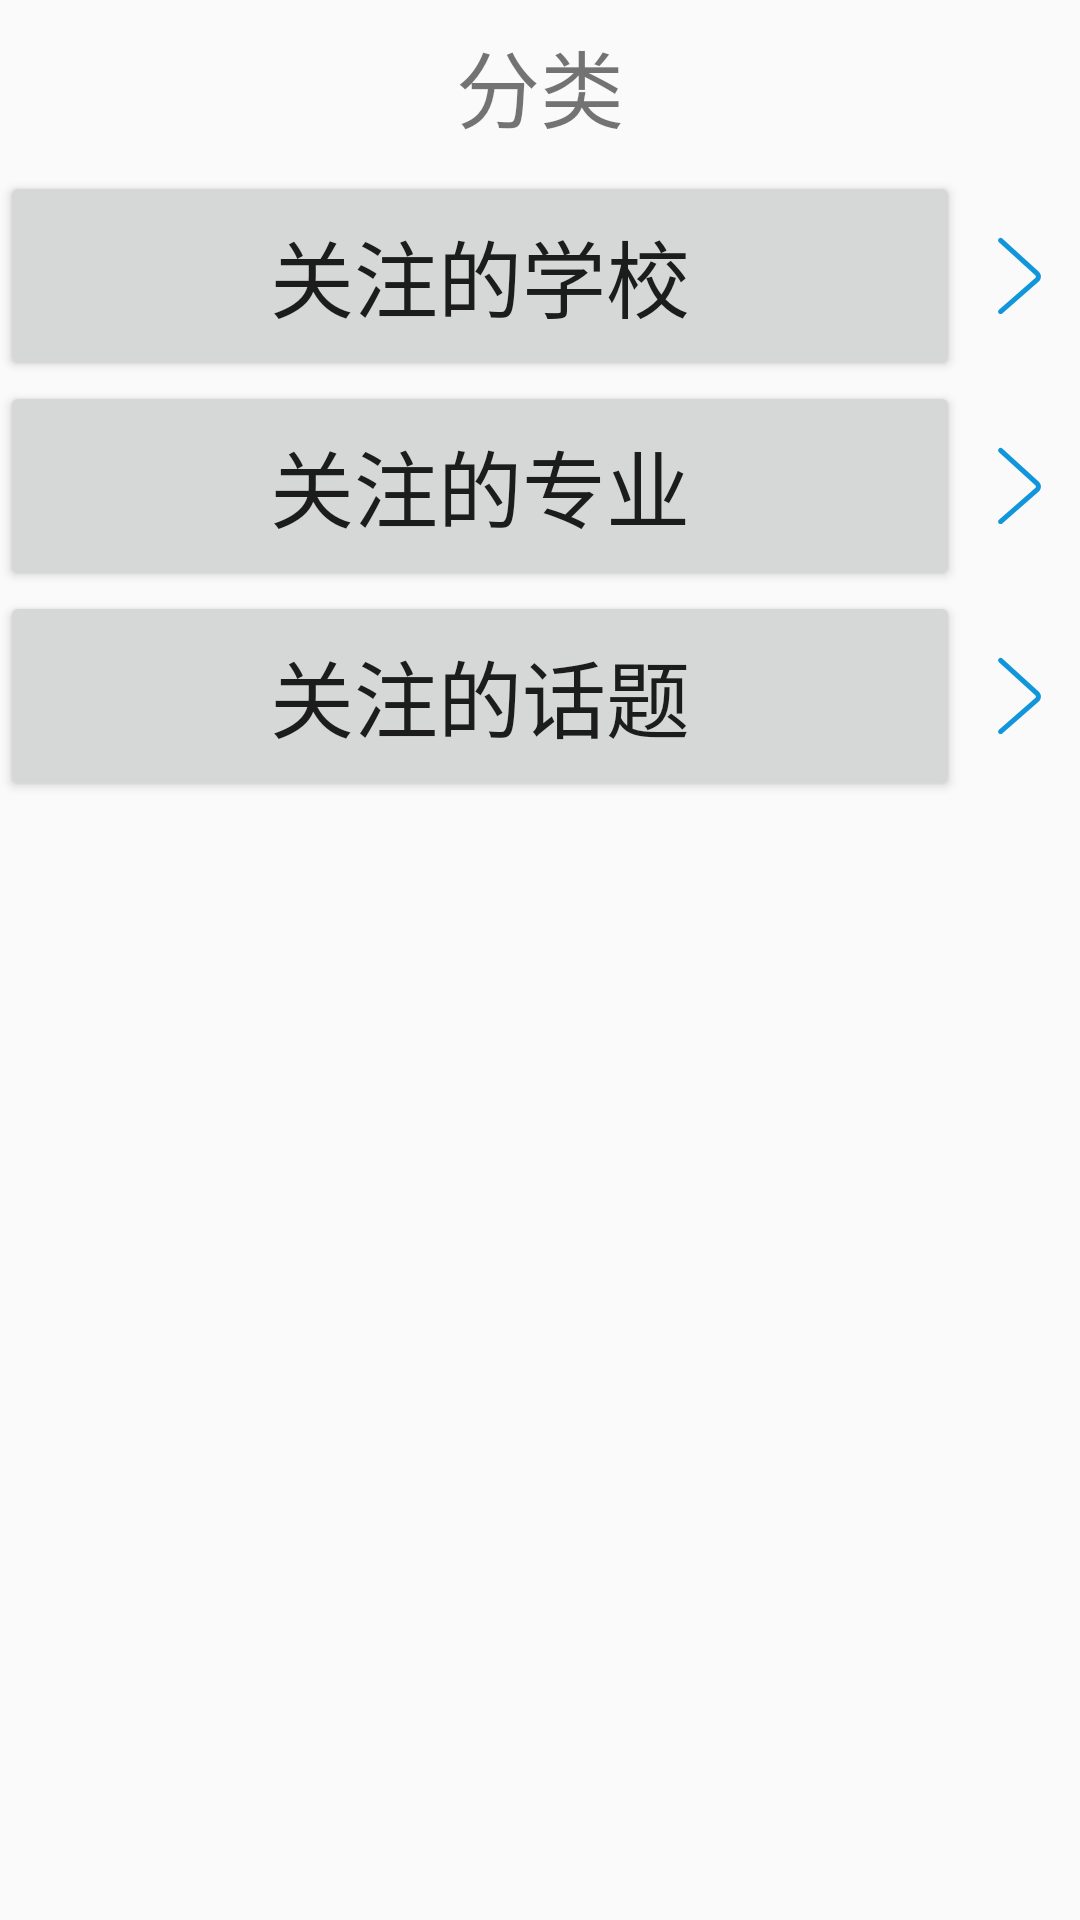

Icons on this 1080*1920 Android screen, each with the point to tap as [x,y]:
more: [1019,275], [1019,485], [1019,695]
